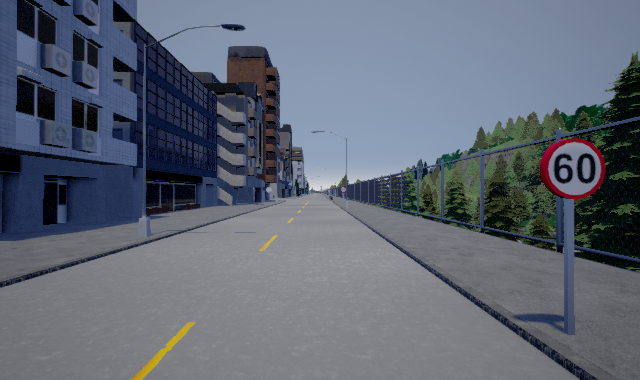traffic_sign: (540, 138, 605, 199), (339, 186, 348, 194)
